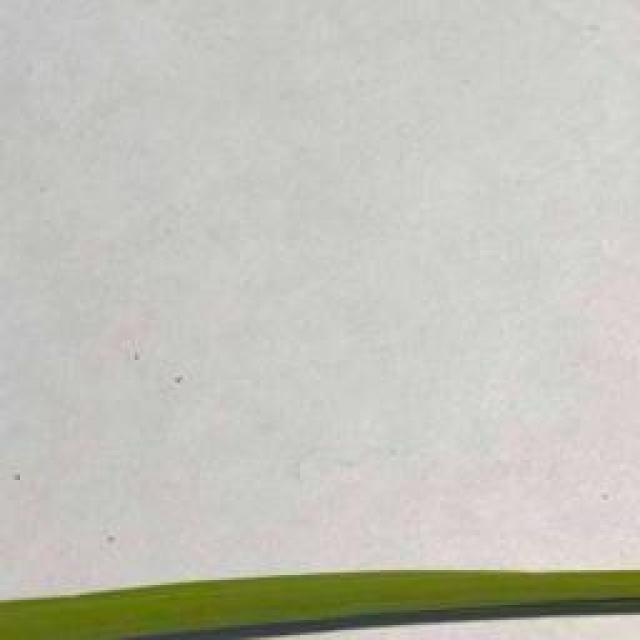Healthy-Plant: (0, 561, 640, 640)
